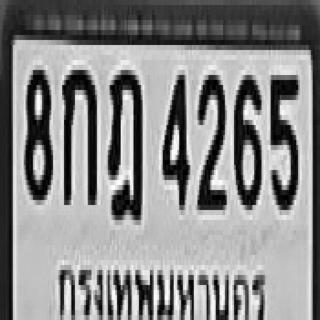A01: (60, 65, 95, 200)
A14: (106, 65, 141, 215)
N02: (196, 70, 225, 205)
N04: (161, 70, 188, 205)
N05: (269, 70, 296, 205)
N06: (232, 70, 260, 205)
N08: (24, 65, 51, 195)
P04: (55, 255, 267, 320)
